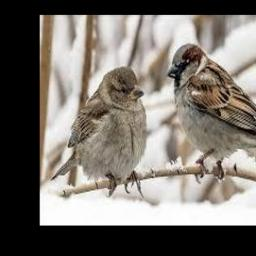Sparrow: (50, 66, 147, 198), (167, 43, 256, 184)
